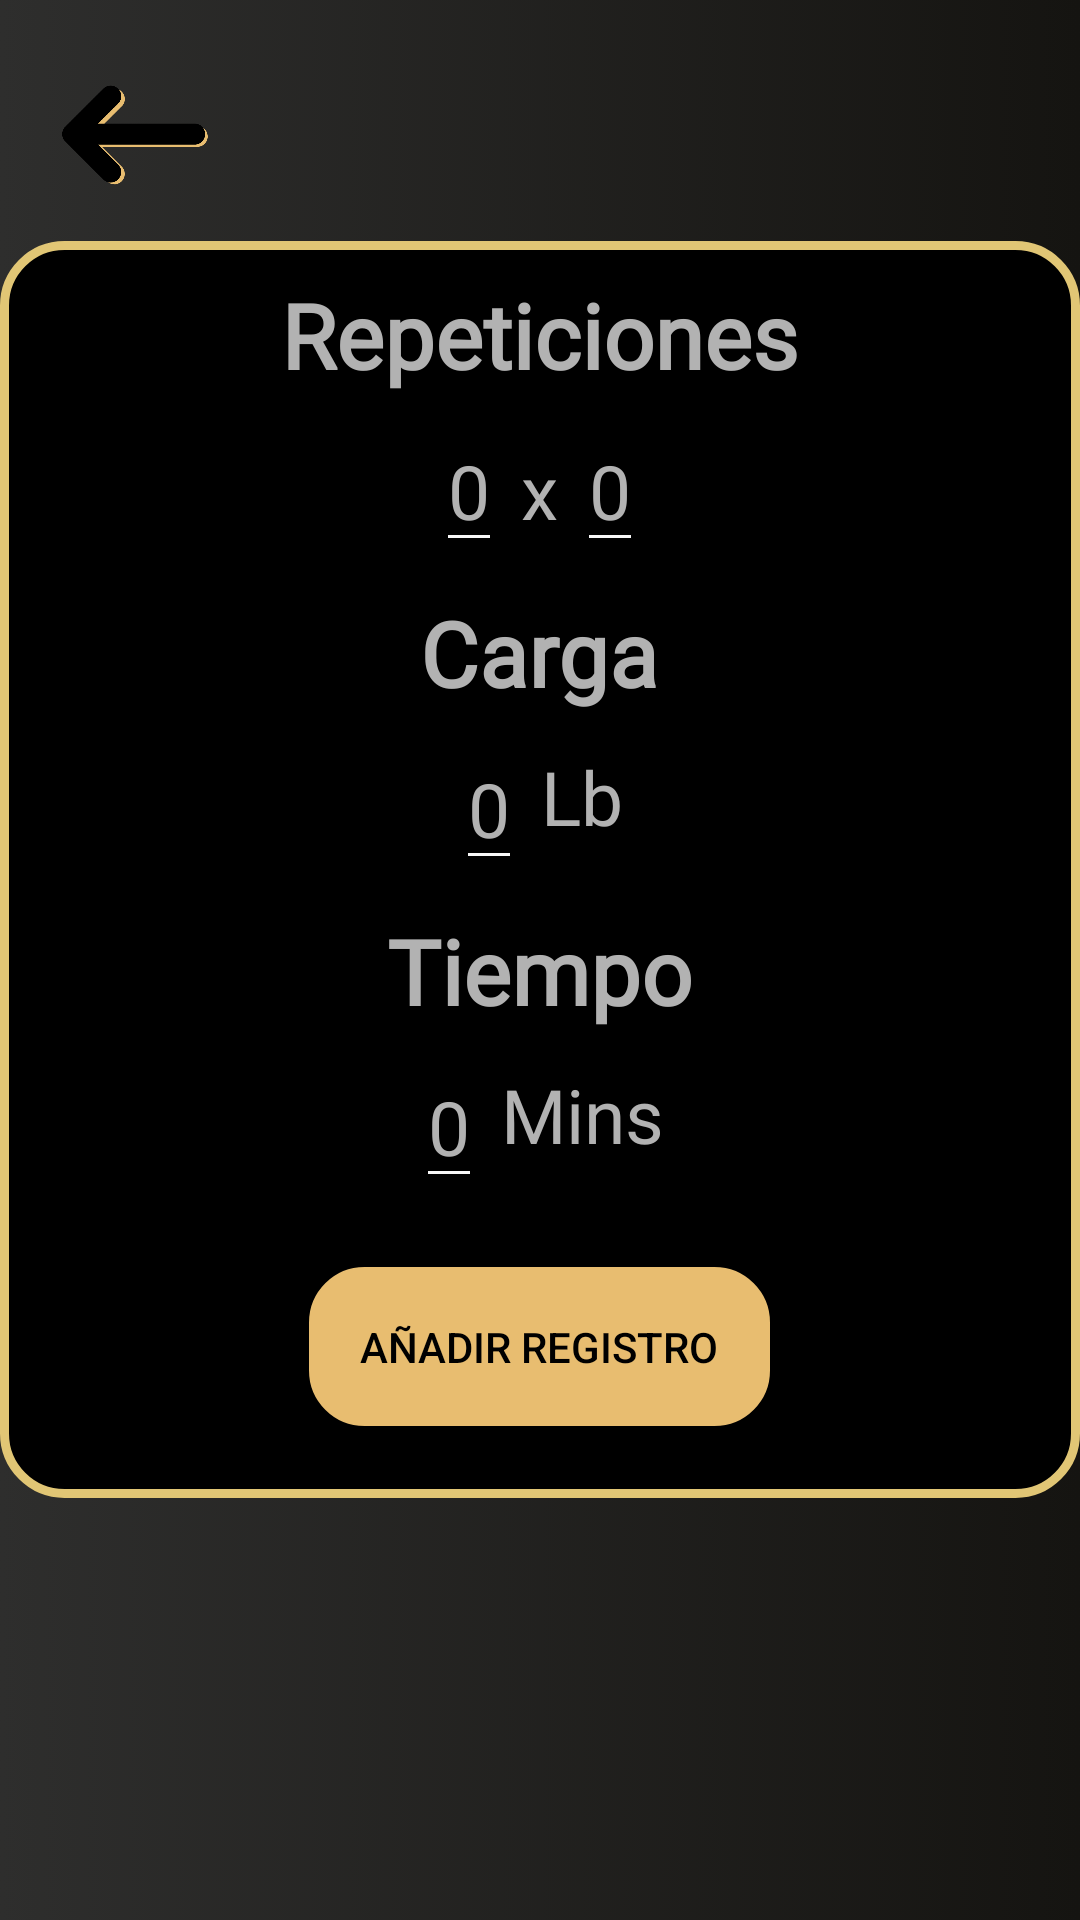

Icons on this 1080px x 1920px Android screen, each with its box as (x1, y1, x2, y2):
flechanegrodorado: (62, 86, 208, 185)
